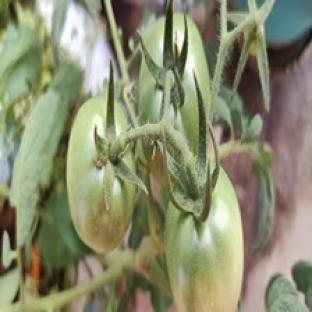Tomato: (166, 169, 243, 311), (67, 95, 135, 253), (170, 17, 210, 151)
